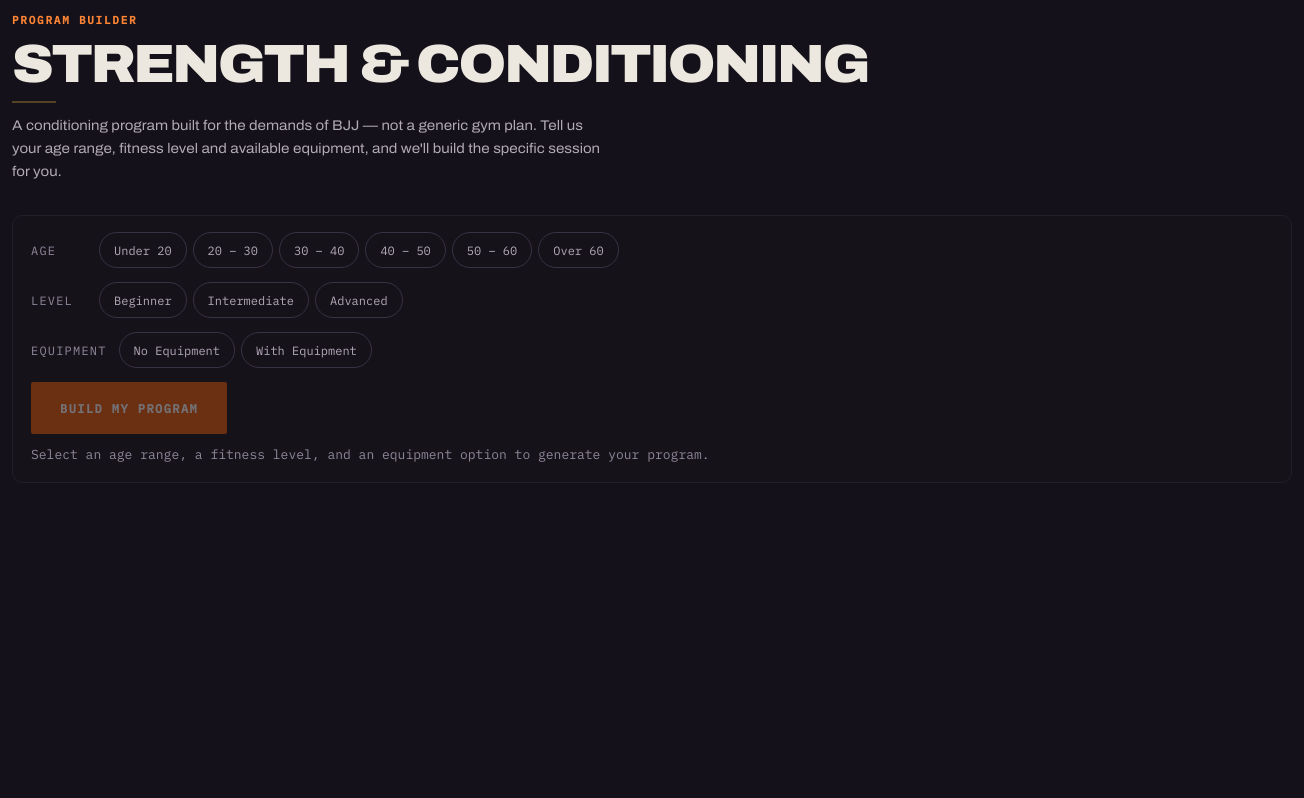
the conditioning page wears the belt for the level chosen
The image size is (1304, 798).
Click the button "20 – 30": (233, 250) [193,232,273,268]
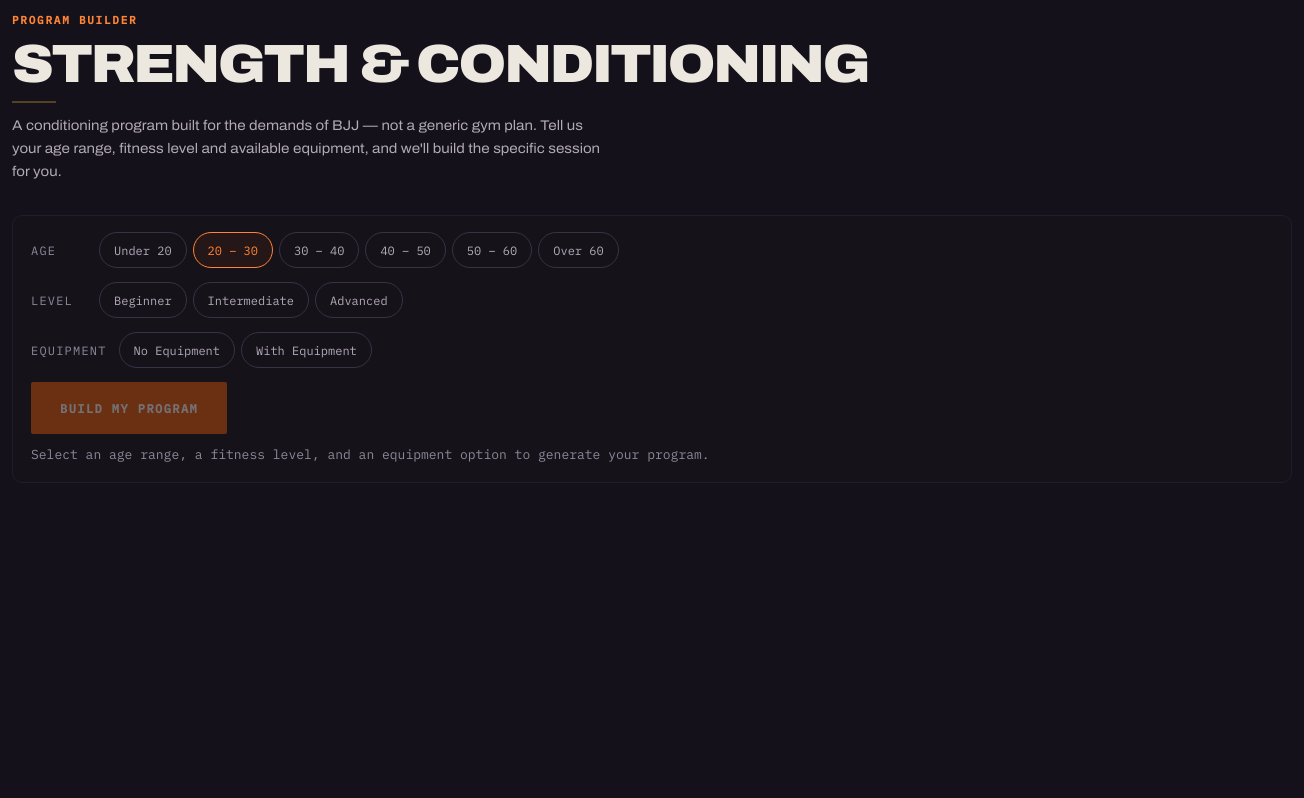
Click the button "Intermediate": (251, 300) [193,282,309,318]
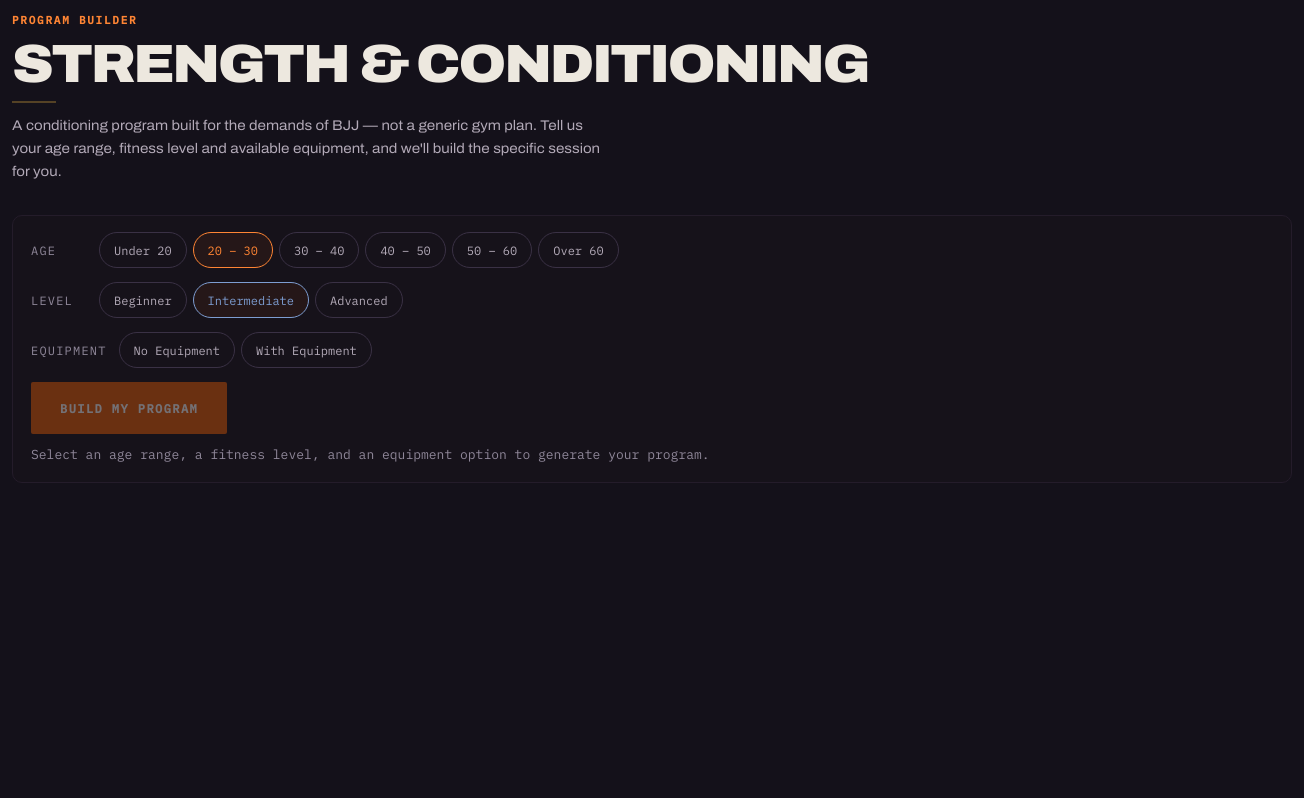
Click the button "No Equipment": (177, 350) [119,332,235,368]
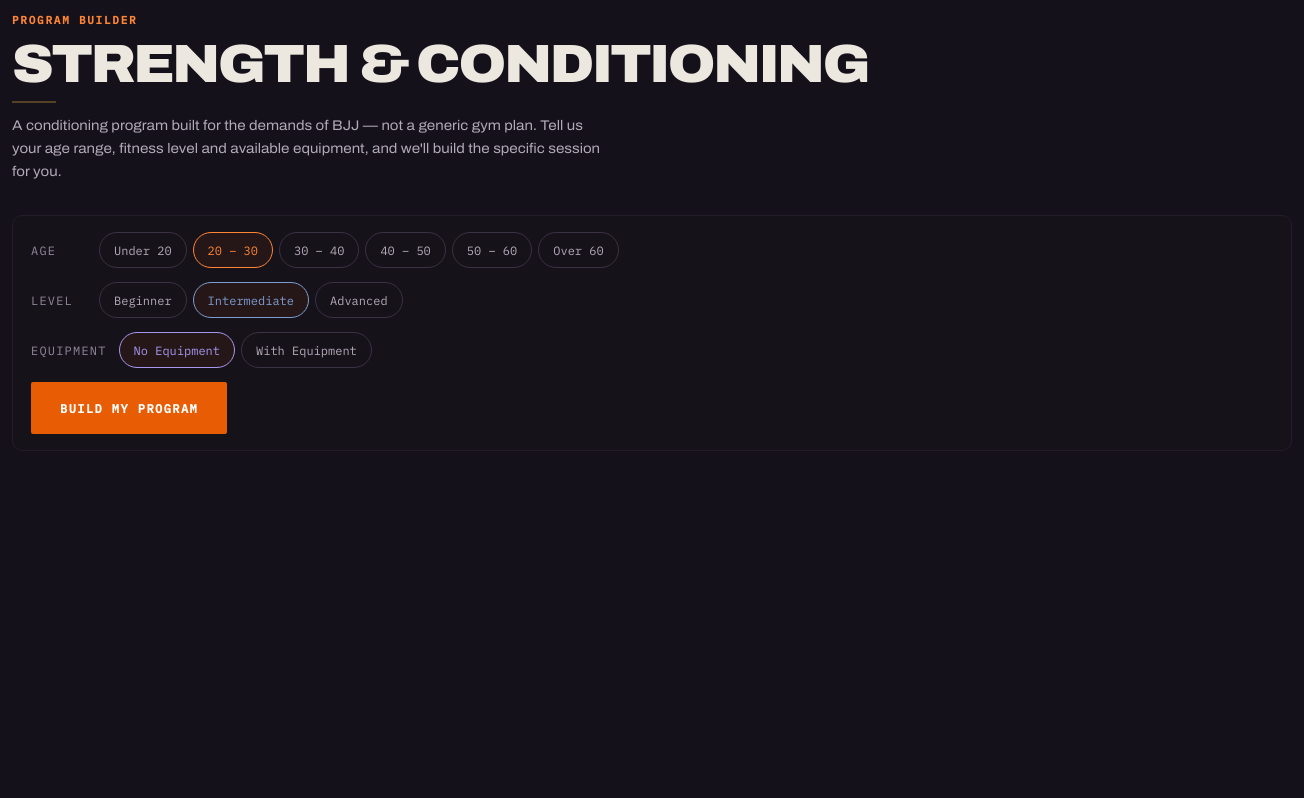
Click the button "Build My Program": (129, 408) [31,382,227,434]
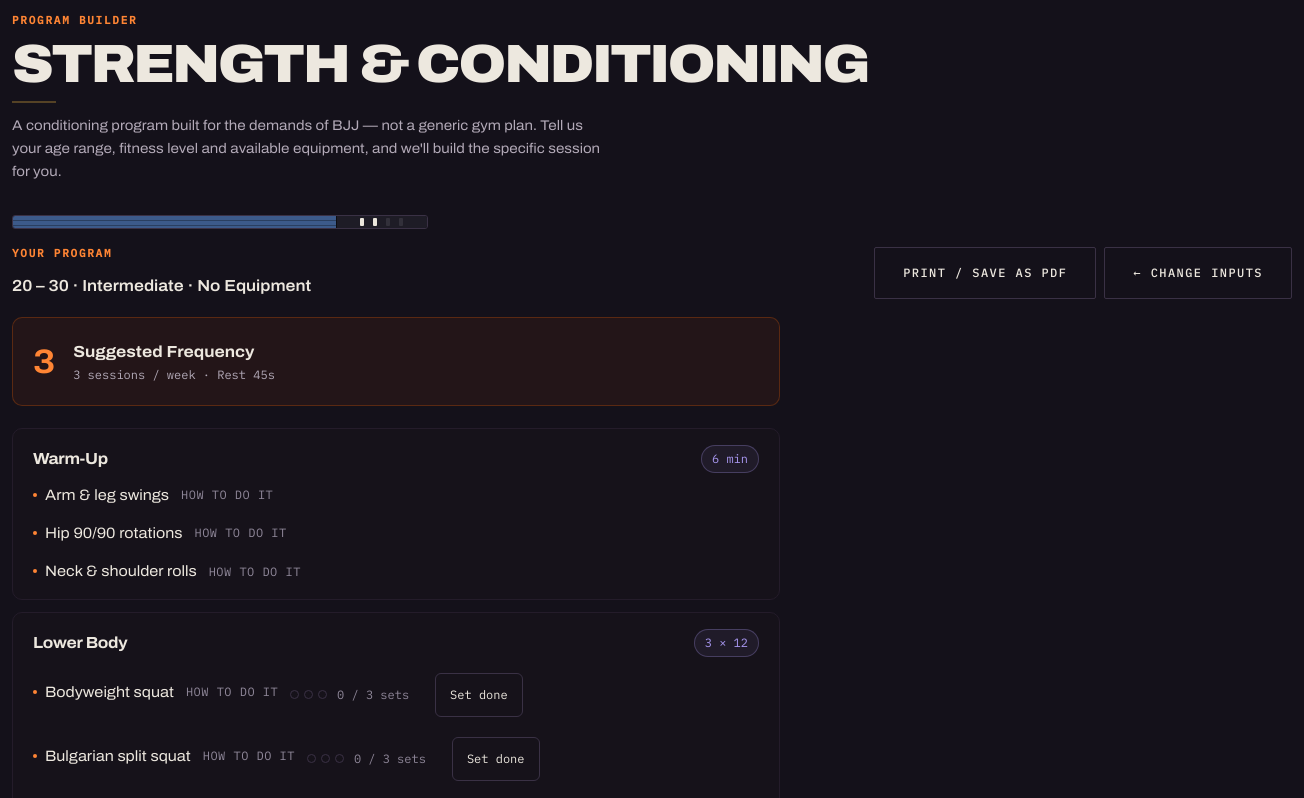
Check: the element with class "rail--result" is shown, box [12,215,428,229]
Check: the number of elements with class "is-on" is 2, box [360,218,364,226]; [374,218,378,226]
